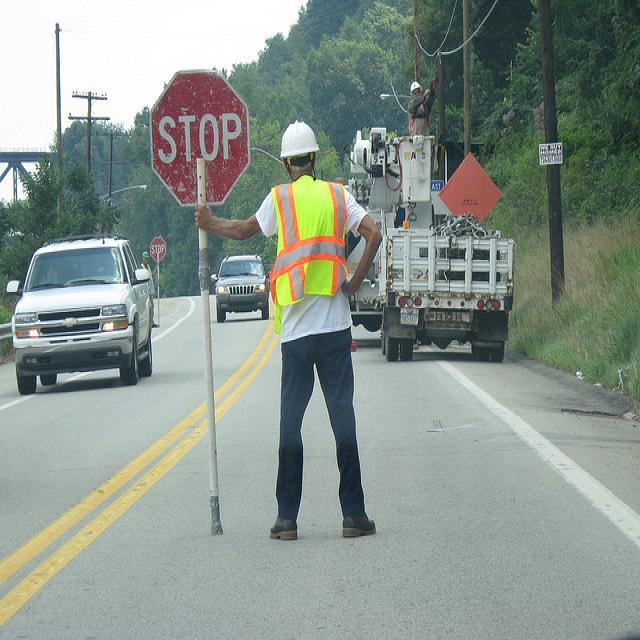Vehicle: (348, 128, 516, 360), (11, 231, 155, 401), (6, 237, 156, 391), (210, 250, 270, 322), (209, 255, 271, 323)
